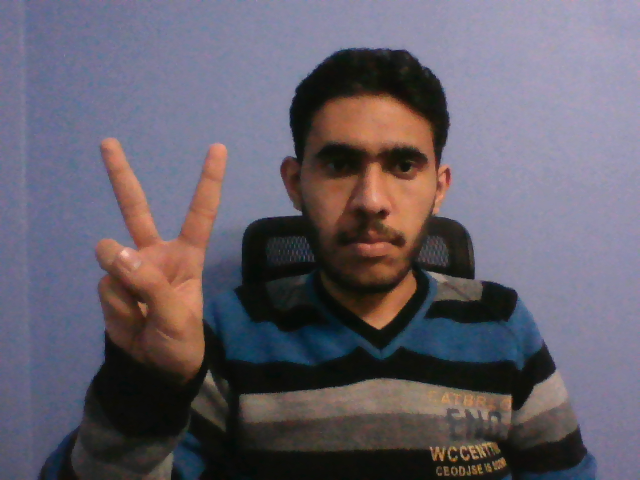V: (90, 135, 234, 390)
